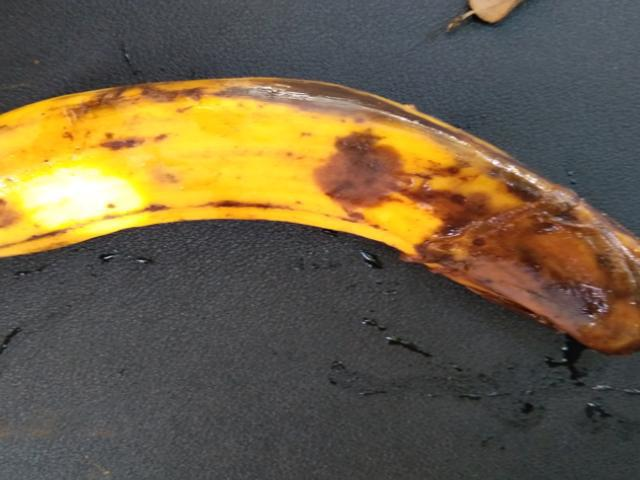rotten: (13, 35, 639, 377)
